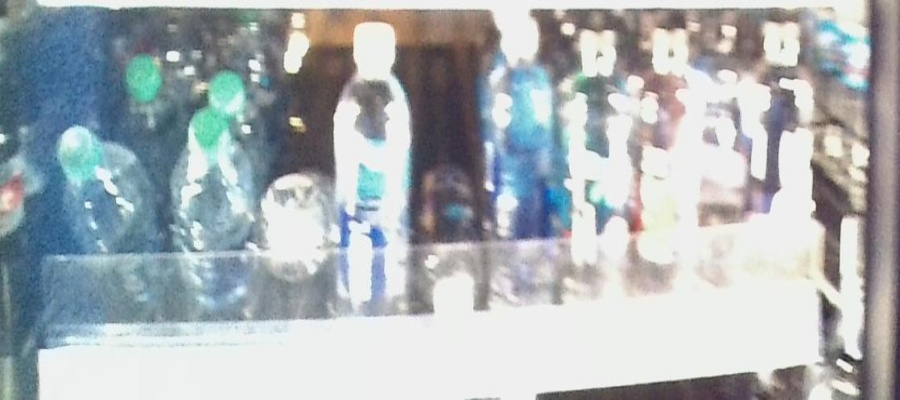bottle: (335, 25, 413, 316), (487, 17, 554, 305), (632, 25, 700, 308), (752, 18, 815, 301), (167, 115, 250, 323), (565, 16, 625, 299), (50, 122, 151, 276), (258, 161, 328, 296), (423, 205, 477, 318)
